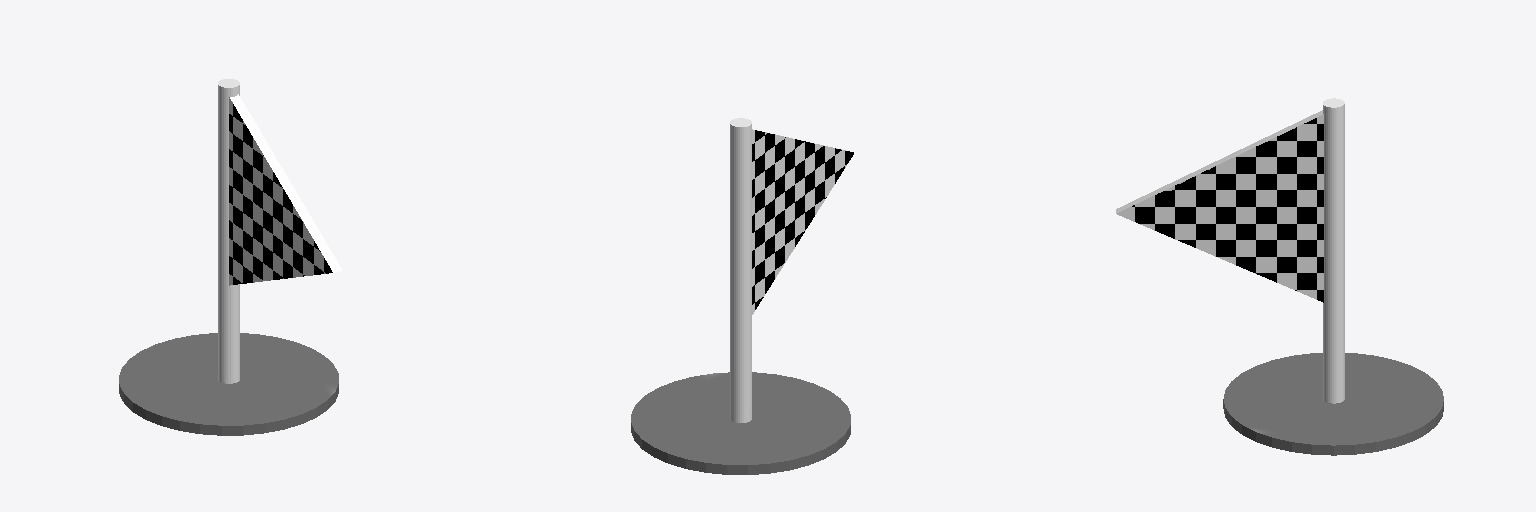
3 renders of one model, left to right at view 1: azimuth 30°, elevation 25°; view 2: azimuth 150°, elevation 25°; view 3: azimuth 270°, elevation 25°, orthographic.
Parts seen in each view (by area): view 1: 立方体; view 2: 立方体; view 3: 立方体.
Part boxes in pixels (bbox=[...]): 立方体: bbox=[119, 79, 342, 435]; 立方体: bbox=[631, 118, 853, 474]; 立方体: bbox=[1116, 98, 1443, 455].
Size of the model in its own units: 2 by 3.06 by 2.98.
Materials: 1 (1 with a texture image).